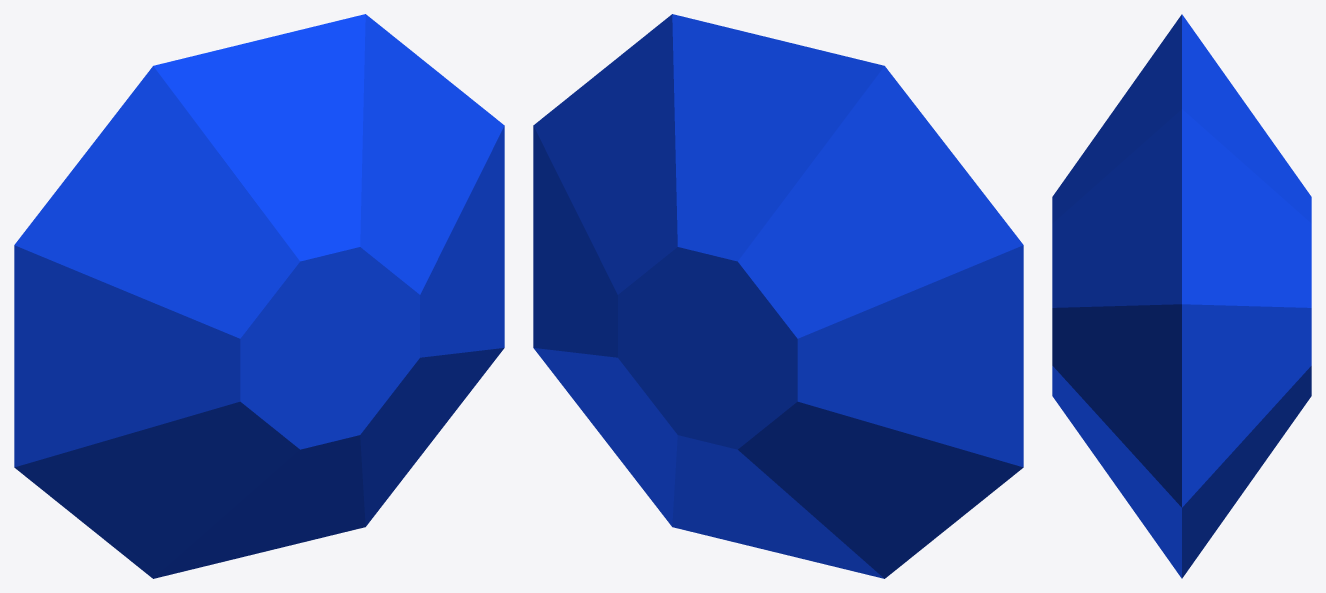
The model's file is sapphire.sapphire.obj.
3 renders of one model, left to right at view 1: azimuth 30°, elevation 25°; view 2: azimuth 150°, elevation 25°; view 3: azimuth 270°, elevation 25°, orthographic. The views are drawn at different scales.
Parts seen in each view (by area): view 1: Cube_Cube.001; view 2: Cube_Cube.001; view 3: Cube_Cube.001.
Part boxes in pixels (<box>): Cube_Cube.001: <box>14,14,504,578</box>; Cube_Cube.001: <box>533,14,1023,578</box>; Cube_Cube.001: <box>1052,14,1311,578</box>.
Bounding box in the file's own units: 1 × 1 × 0.5.
